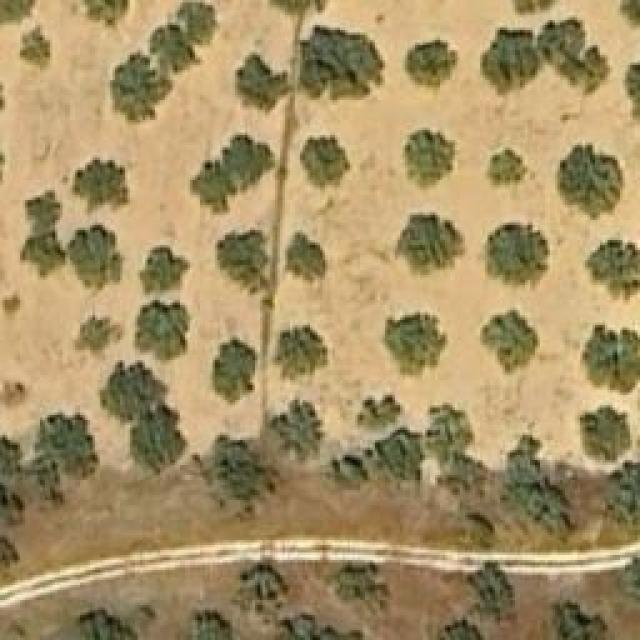Tree: (500, 435, 575, 535), (190, 135, 275, 215), (300, 25, 385, 103), (555, 142, 623, 220), (542, 20, 610, 95), (380, 310, 448, 380), (395, 213, 465, 278), (485, 222, 550, 290), (67, 225, 125, 295), (582, 323, 640, 393), (477, 25, 535, 95), (40, 412, 95, 480), (110, 55, 165, 123), (70, 158, 130, 218), (483, 308, 538, 373), (103, 363, 173, 413), (135, 300, 193, 360), (235, 53, 293, 113), (130, 410, 183, 475), (403, 128, 456, 191), (218, 230, 271, 293), (585, 240, 640, 300), (373, 430, 423, 495), (270, 325, 328, 380), (300, 135, 353, 195), (273, 398, 323, 461), (218, 452, 281, 500), (403, 40, 458, 93), (470, 563, 518, 623), (607, 452, 640, 537), (427, 402, 475, 460), (245, 562, 293, 620), (580, 405, 630, 460), (213, 340, 256, 403), (147, 20, 195, 73), (70, 315, 125, 360), (18, 230, 65, 281), (140, 245, 188, 293), (285, 230, 328, 283), (332, 565, 380, 610), (553, 602, 608, 640), (77, 607, 137, 640), (485, 148, 528, 188), (178, 0, 223, 38), (328, 455, 368, 493), (20, 188, 58, 226), (358, 398, 401, 431), (183, 612, 228, 640), (437, 617, 490, 640), (20, 28, 50, 68), (622, 60, 640, 125), (0, 432, 22, 485), (468, 512, 498, 550), (0, 0, 35, 28), (620, 0, 640, 35), (625, 555, 640, 600)
